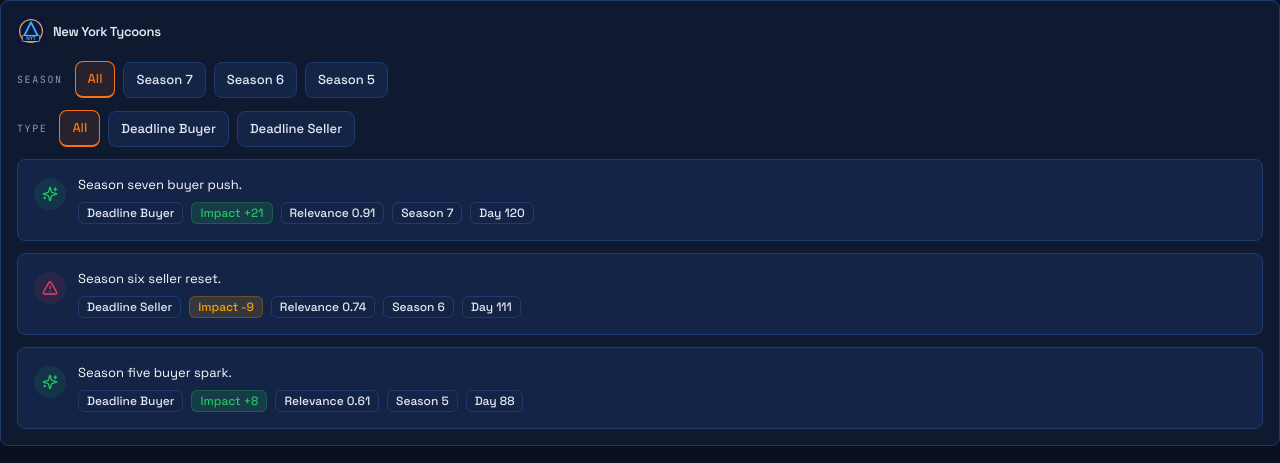
Test: TeamIdentityCard › filters moments by season
This screenshot has width=1280, height=463.
Click the tab "Season 6": [255, 80] box [214,62,297,98]
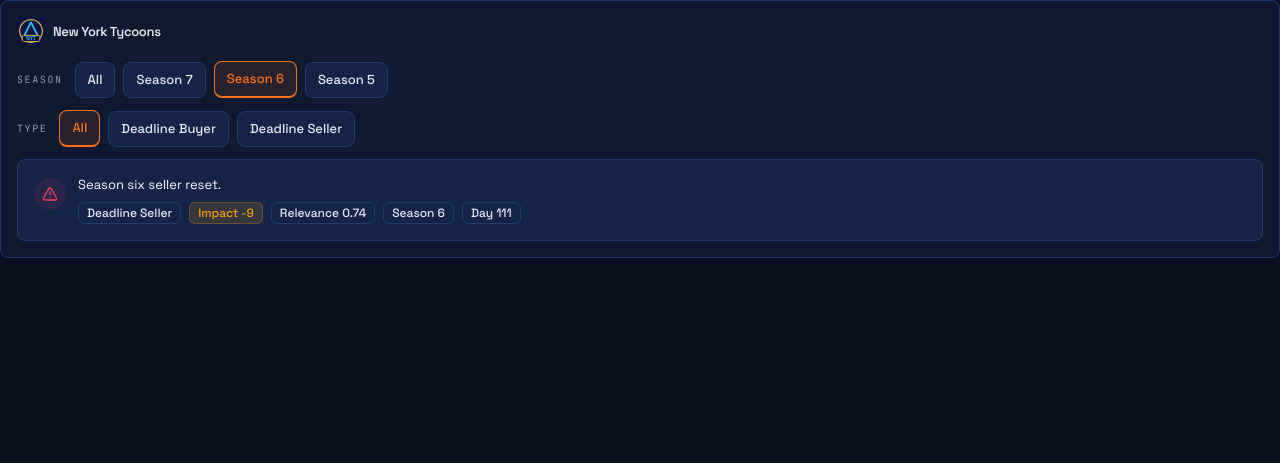
Check: the text "Season six seller reset." is shown, box [78,176,221,193]
Check: the text "Season seven buyer push." is gone
Check: the text "Season five buyer spark." is gone
